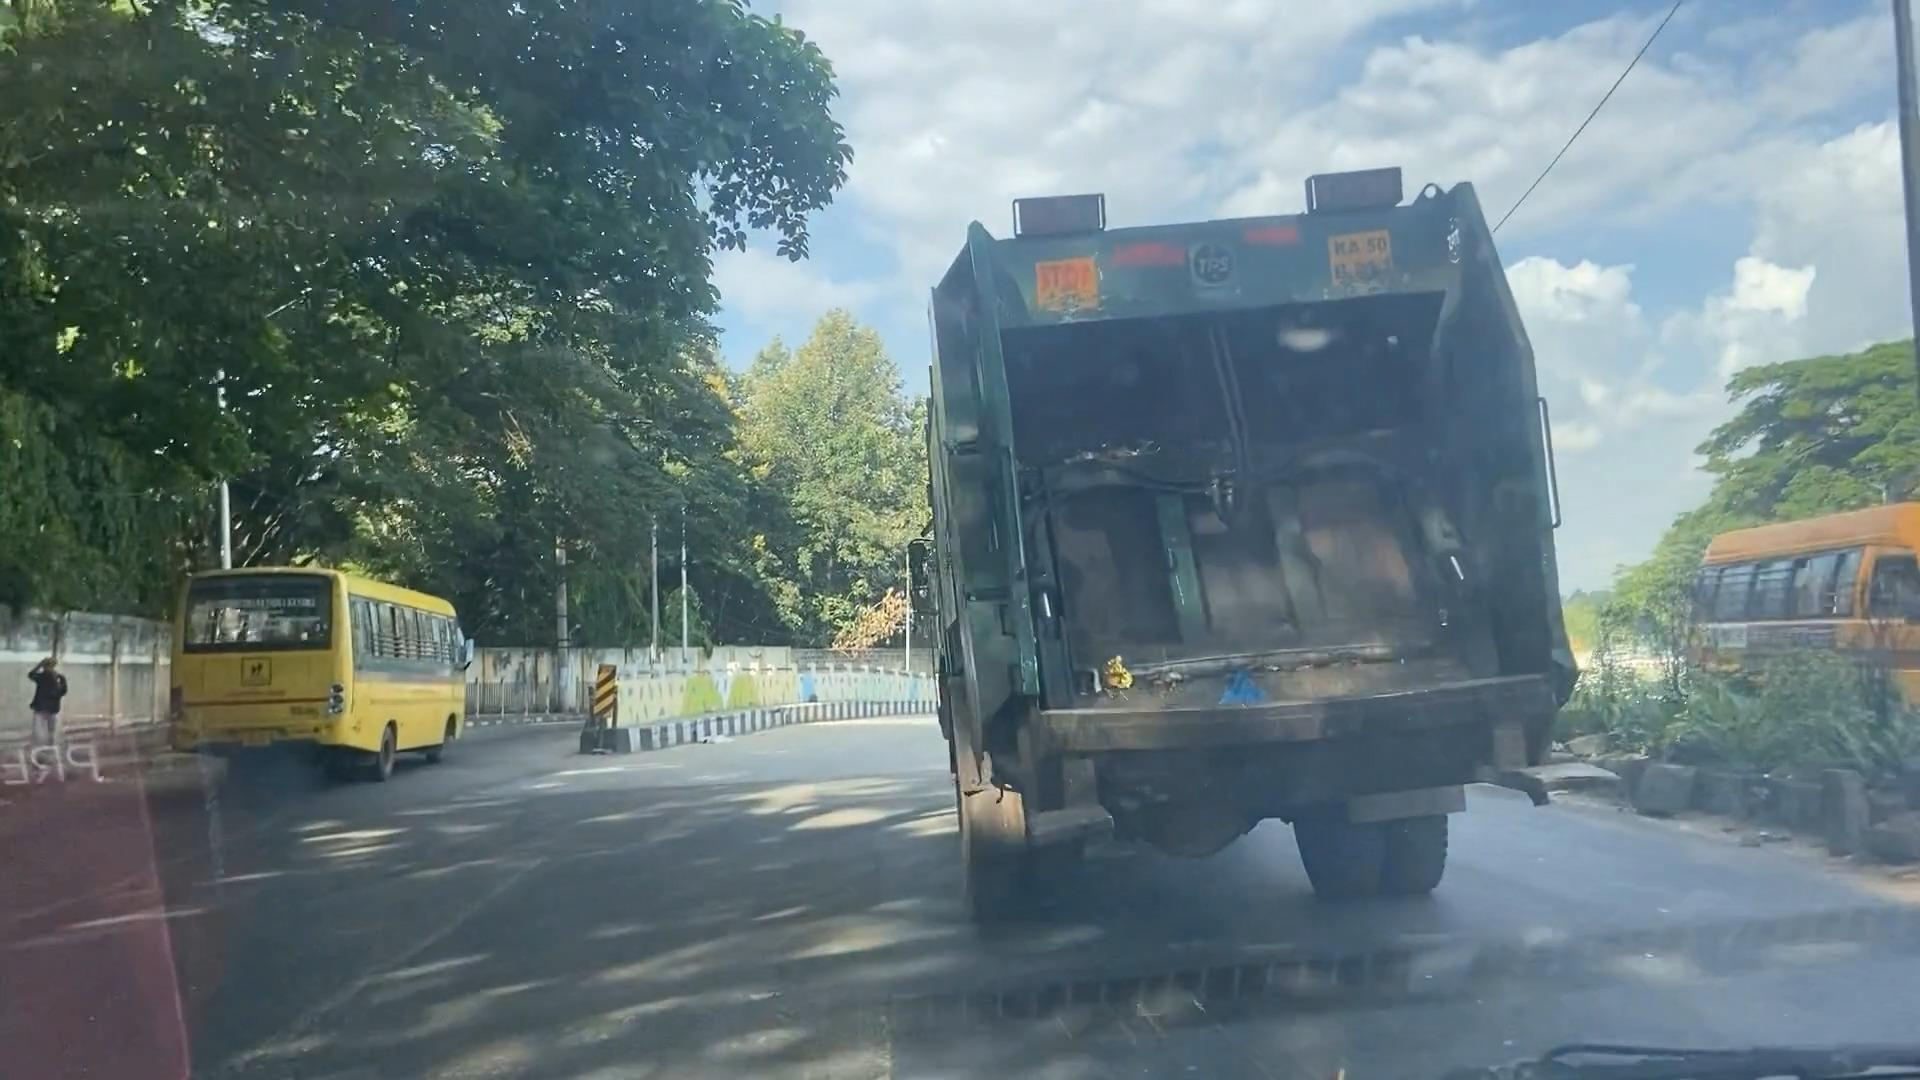HMV: (927, 185, 1549, 906), (160, 564, 472, 779)
